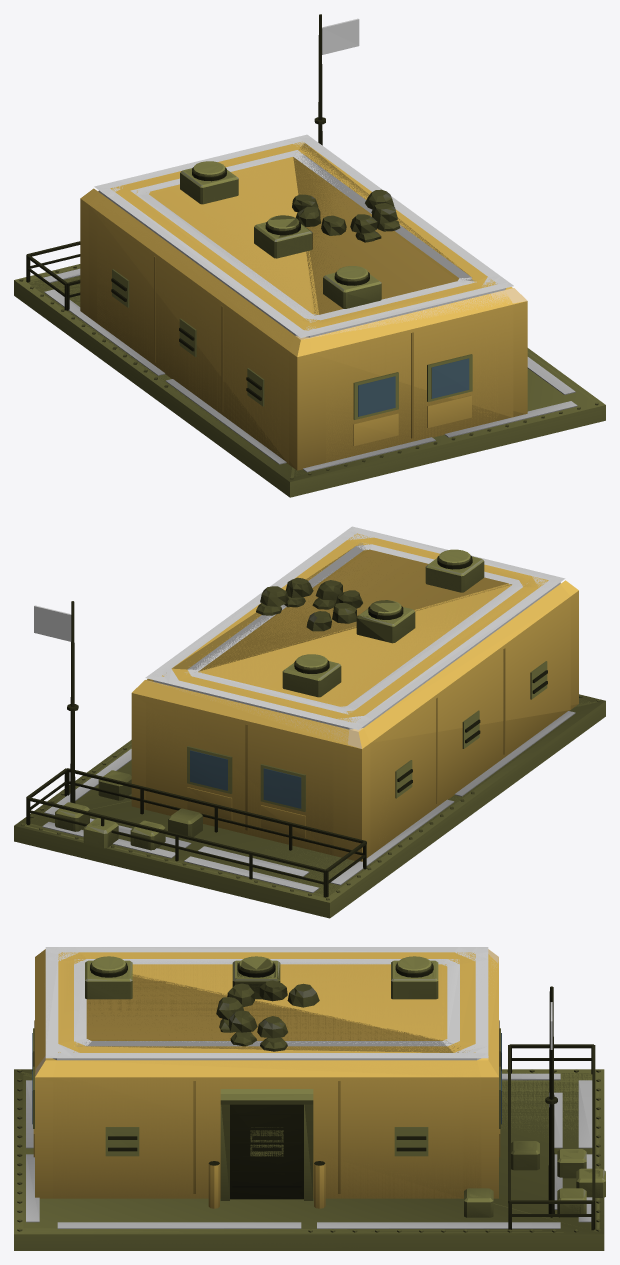
Rendered from meridian_barracks_damaged.glb.
3 views of the same model, one above another, from view 1: azimuth 30°, elevation 25°; view 2: azimuth 150°, elevation 25°; view 3: azimuth 270°, elevation 25° (orthographic). The views are drawn at different scales.
Parts seen in each view (by area): view 1: body (×3); view 2: body (×3); view 3: body (×3).
Boxes of the visible parts, x1,y1,x2,y2 form: body (×3): (14, 14, 605, 497); body (×3): (14, 526, 605, 918); body (×3): (14, 947, 605, 1250).
Bounding box in the file's own units: 7.5 × 5.15 × 11.23.
